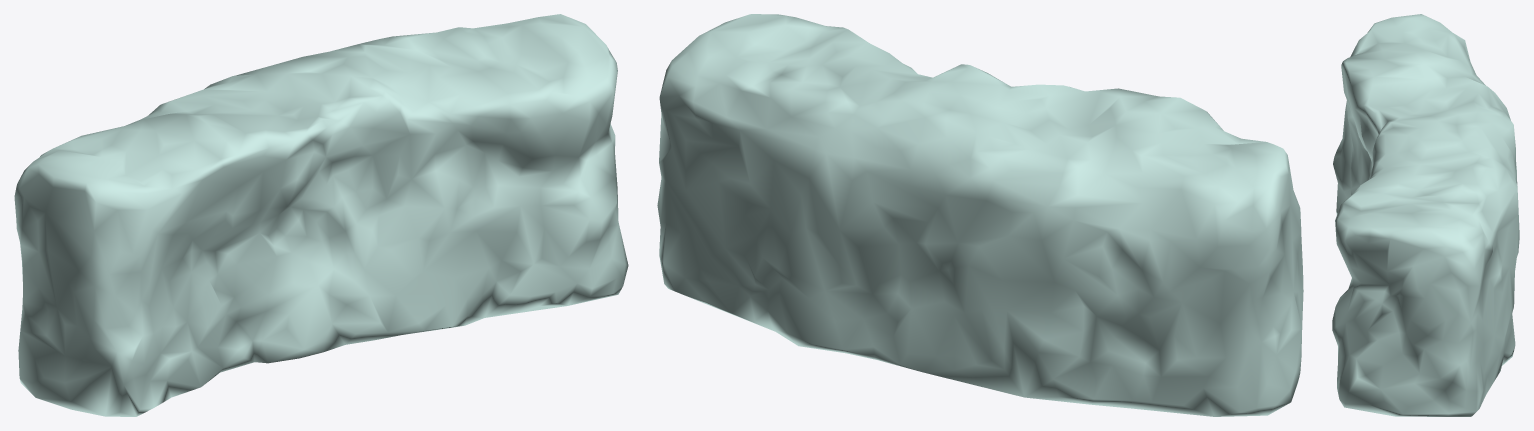
Rendered from IceEDGE_low.fbx.
3 renders of one model, left to right at view 1: azimuth 30°, elevation 25°; view 2: azimuth 150°, elevation 25°; view 3: azimuth 270°, elevation 25°, orthographic. The views are drawn at different scales.
Visible parts, largest first — view 1: EdgeICE_low; view 2: EdgeICE_low; view 3: EdgeICE_low.
Boxes of the visible parts, left/top/right/bottom form: EdgeICE_low: left=14, top=14, right=628, bottom=416; EdgeICE_low: left=657, top=14, right=1303, bottom=416; EdgeICE_low: left=1332, top=14, right=1519, bottom=416.
Size of the model in its own units: 1319 by 514 by 453.
